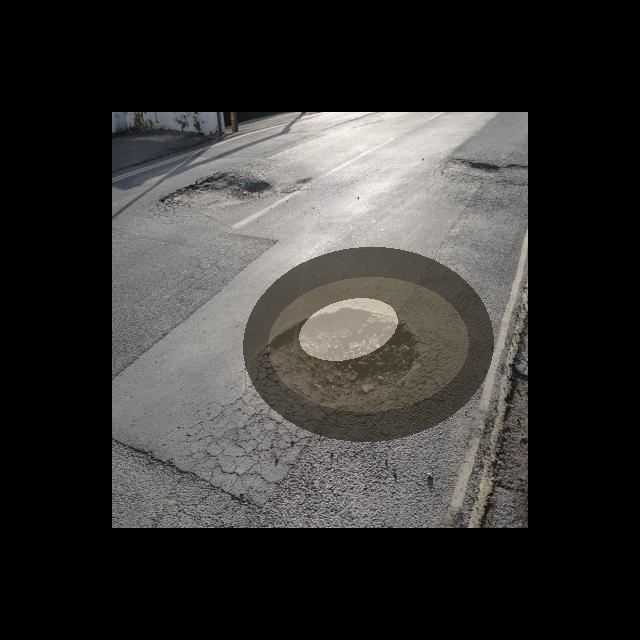waterlogging: (233, 237, 503, 451)
